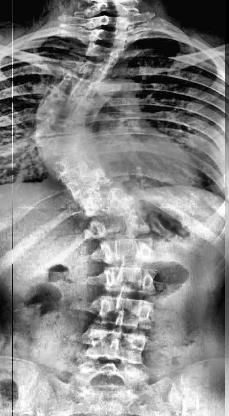Vertebrae: (73, 357, 156, 395), (94, 294, 159, 336), (80, 326, 146, 366), (95, 232, 163, 270), (98, 261, 160, 299), (29, 132, 104, 160), (35, 88, 97, 121), (84, 206, 152, 236), (52, 71, 112, 103), (30, 111, 98, 139), (62, 168, 128, 196), (44, 149, 108, 177), (80, 185, 144, 211), (68, 57, 114, 80), (82, 40, 124, 62), (82, 30, 128, 50), (83, 2, 131, 18), (84, 15, 132, 31)
